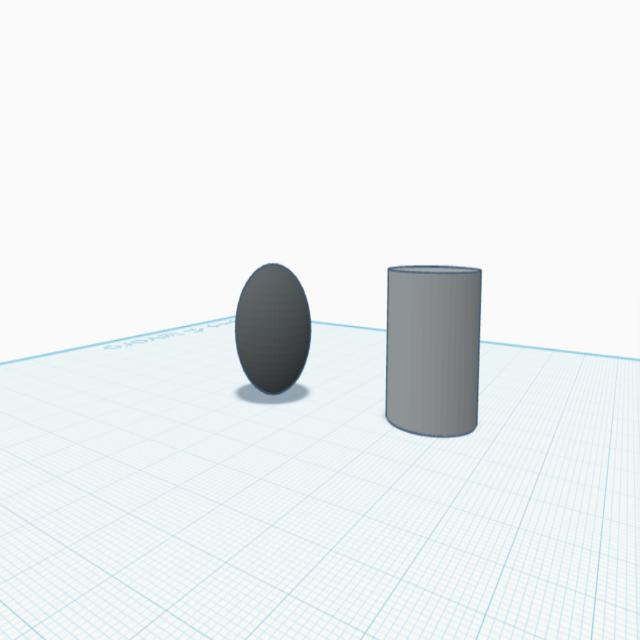sphere: (232, 257, 314, 399)
